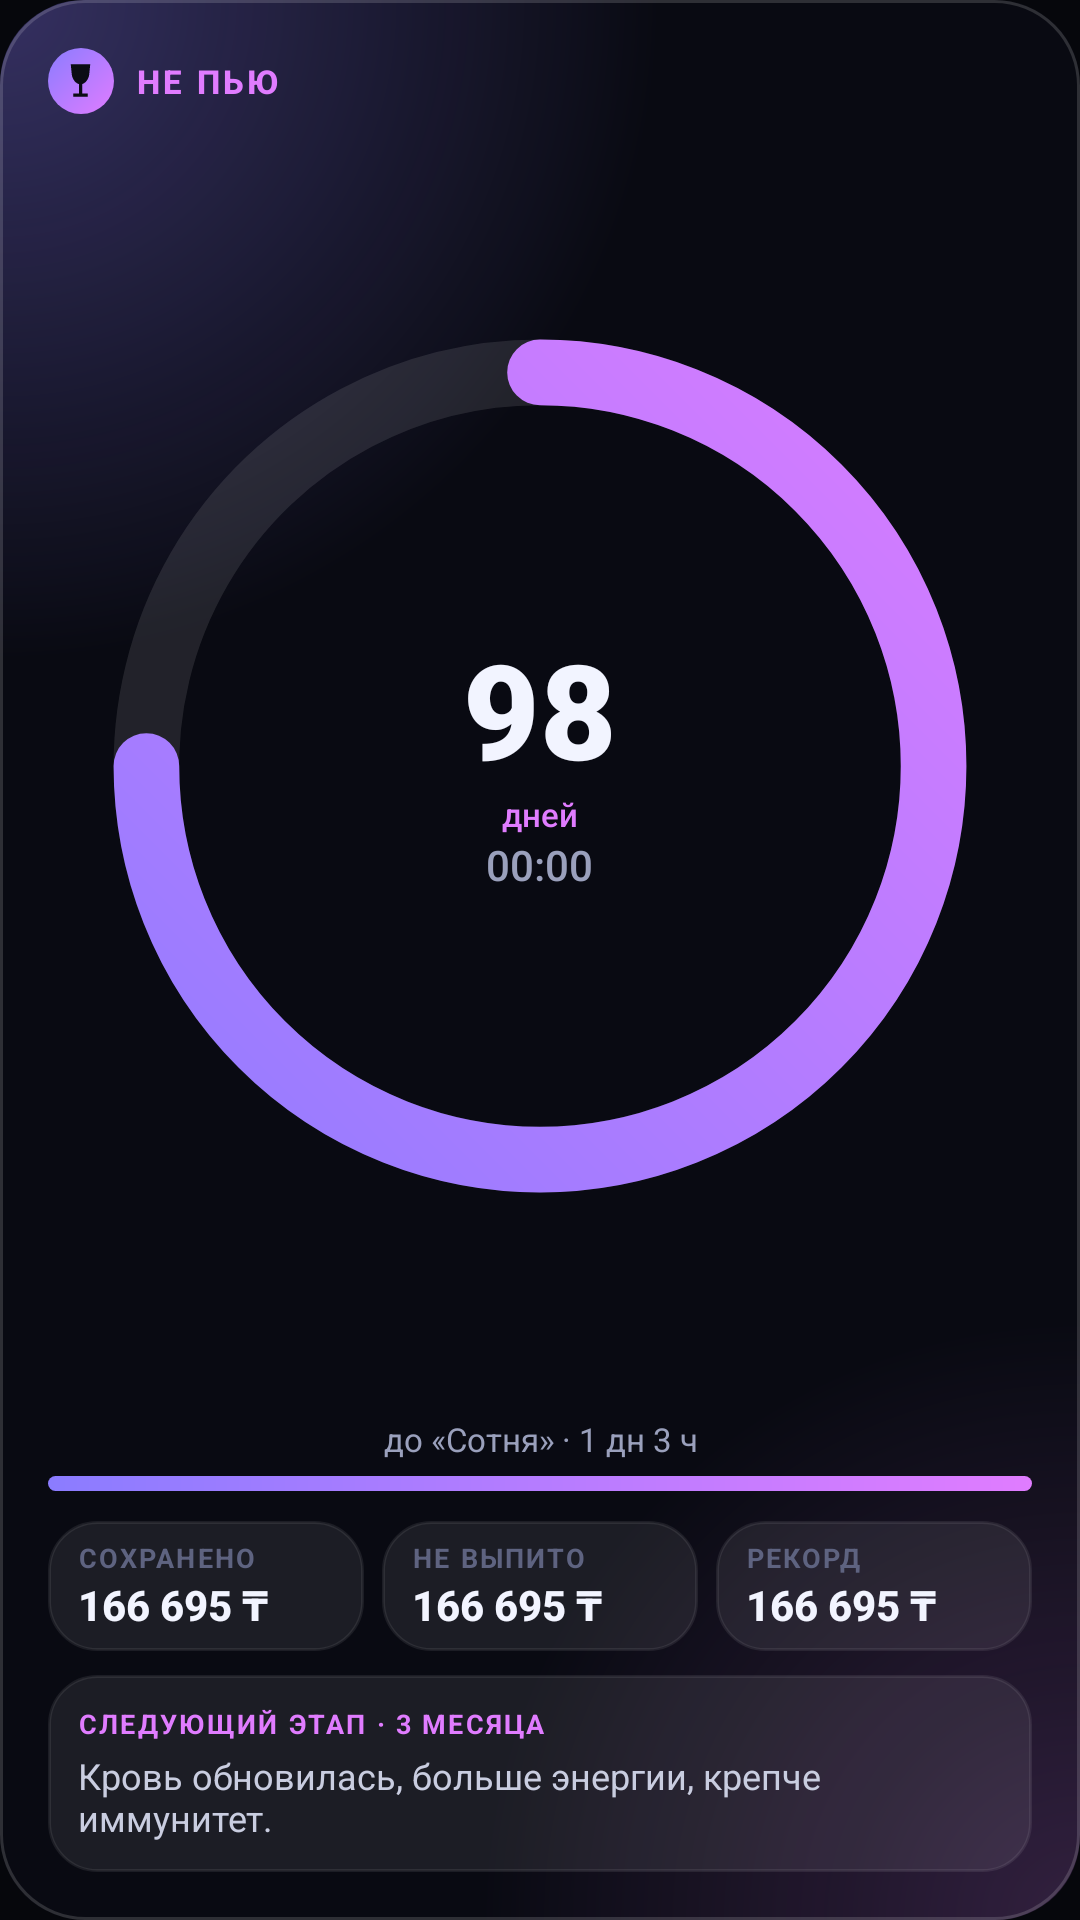

Icons on this 1080*1920 Android screen, each with the point to tap as [x,y]:
wine: [80,80]
